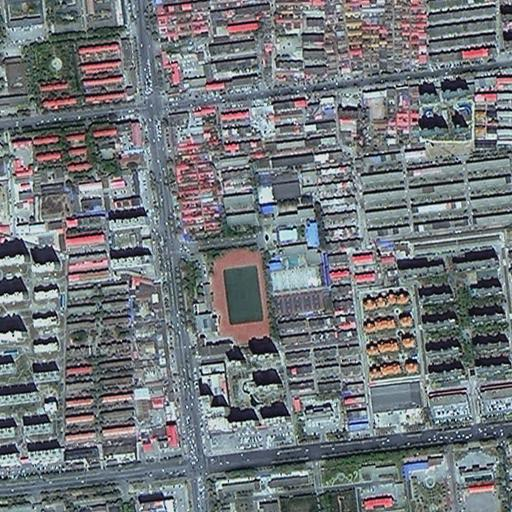school: (210, 205, 322, 347)
